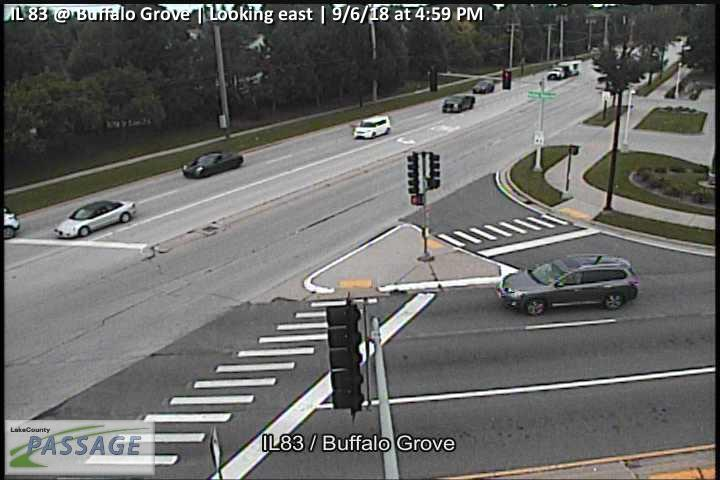SUV: (495, 255, 640, 317), (353, 115, 391, 140), (443, 94, 476, 113), (473, 79, 495, 94)
Sedan: (55, 199, 138, 240), (181, 151, 245, 179)
